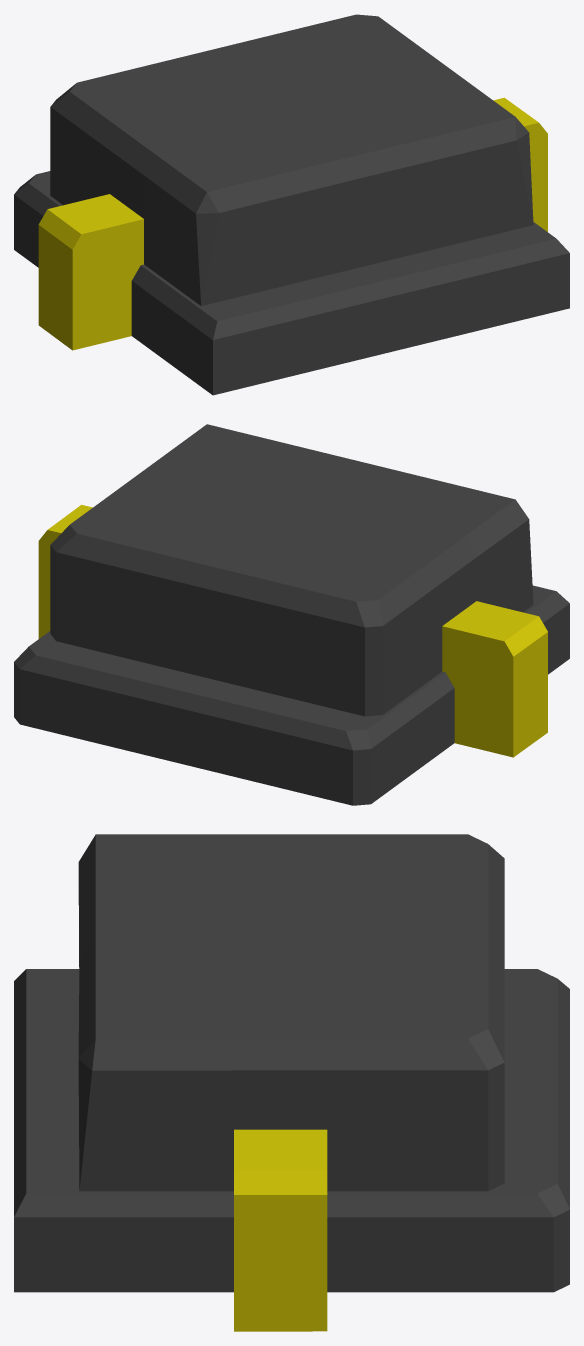
File: socle alt.fbx
3 renders of one model, top to bottom at view 1: azimuth 30°, elevation 25°; view 2: azimuth 150°, elevation 25°; view 3: azimuth 270°, elevation 25°, orthographic. The views are drawn at different scales.
Visible parts, largest first — view 1: pillier_base_standalone; view 2: pillier_base_standalone; view 3: pillier_base_standalone.
Part boxes in pixels (x1,y1,x2,y2): pillier_base_standalone: (14, 14, 569, 395); pillier_base_standalone: (14, 424, 569, 805); pillier_base_standalone: (14, 834, 569, 1331).
Size of the model in its own units: 47.6 by 16.77 by 35.53.
